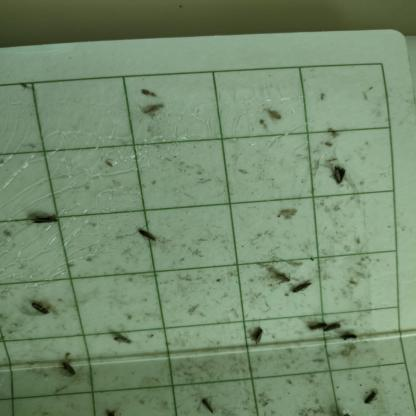prays_oleae: (25, 199, 62, 244), (133, 205, 160, 256), (58, 346, 84, 386), (290, 266, 314, 301), (247, 322, 269, 360), (330, 161, 350, 201), (27, 294, 50, 326), (110, 329, 135, 354), (339, 322, 362, 349), (320, 316, 342, 342), (198, 392, 221, 416), (271, 268, 291, 292), (361, 384, 378, 412), (308, 320, 326, 338)
